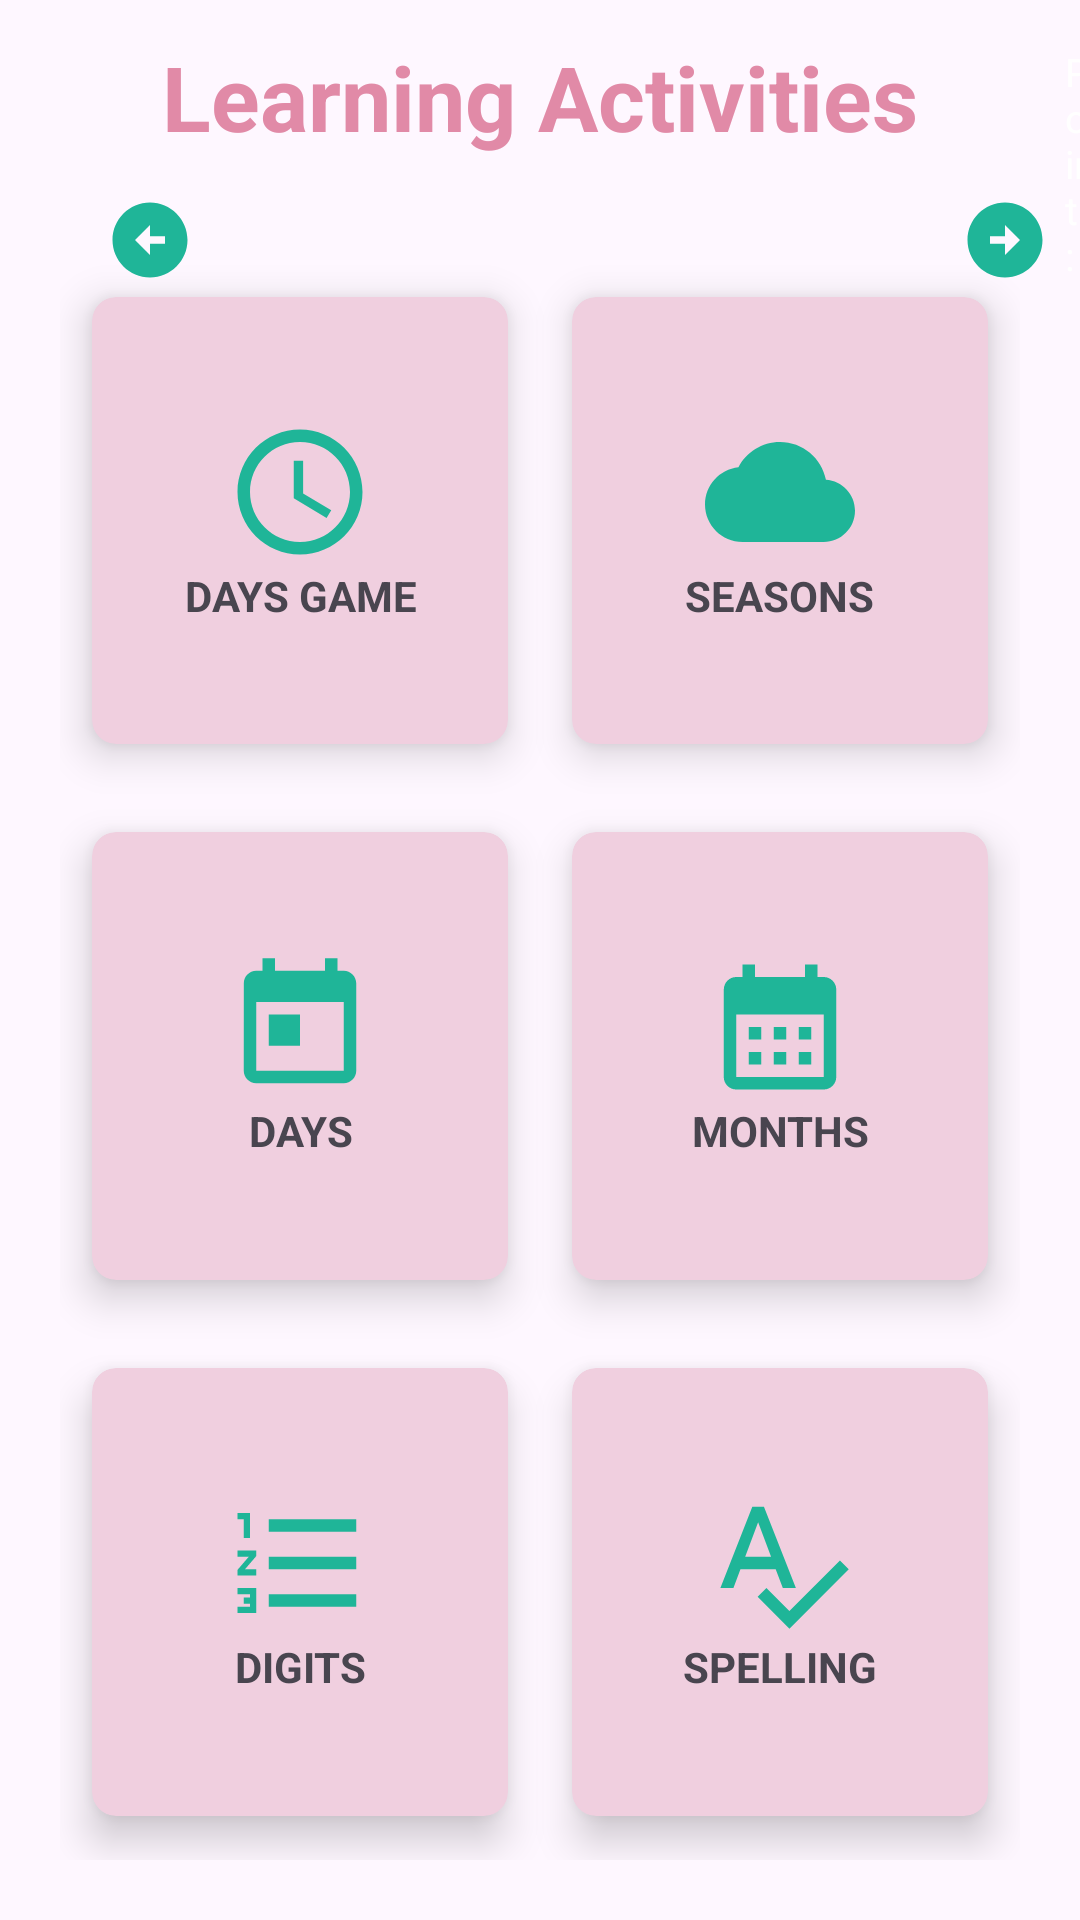

Screen size 1080 x 1920. Icon name, then its box in pixels as Rect(x1, y1, x2, y2):
access time: Rect(237, 429, 363, 555)
arrow circle left: Rect(112, 202, 188, 278)
arrow circle right: Rect(967, 202, 1043, 278)
calendar month: Rect(723, 964, 837, 1090)
cloud: Rect(705, 442, 855, 542)
format list numbered: Rect(237, 1513, 357, 1613)
spellcheck: Rect(720, 1506, 849, 1629)
today: Rect(243, 958, 357, 1084)
